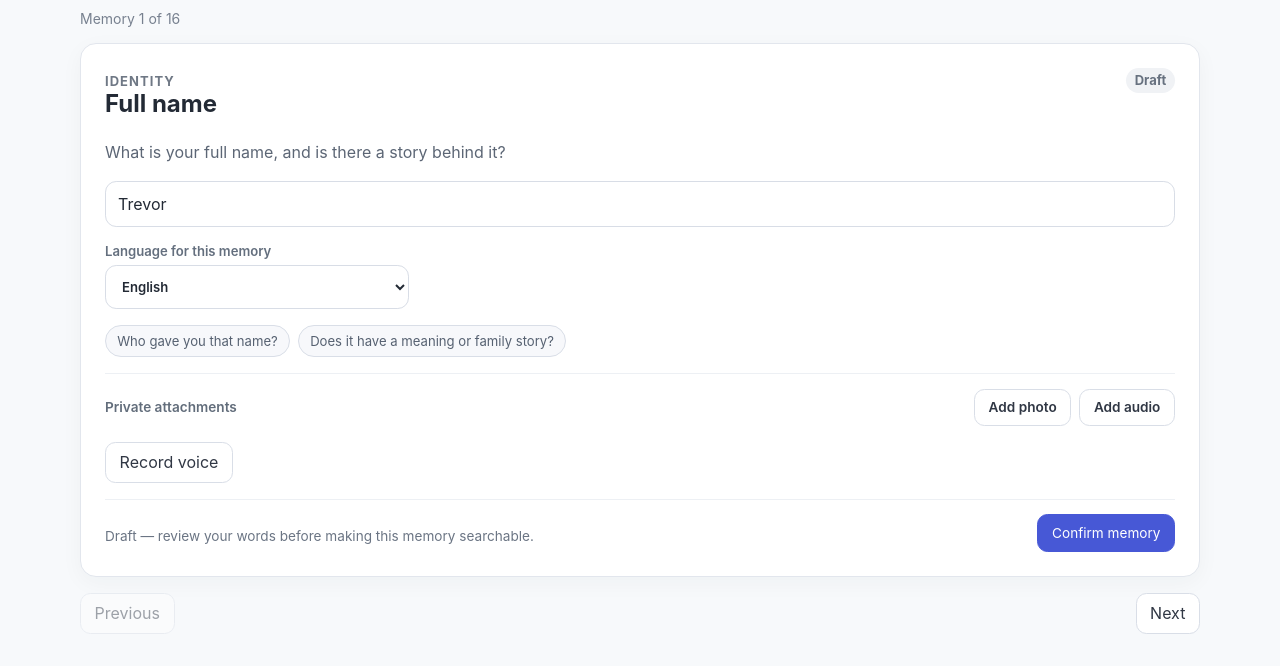
Test case: MyStory › confirms memories explicitly and offers retry when local indexing fails
The width and height of the screenshot is (1280, 666).
(page scrolled)
Expected: the field named "Full name" is shown, 105,180 -> 1175,226
Step 1. Click the button "Confirm memory" → (1106,533), box 1038,514 -> 1175,552
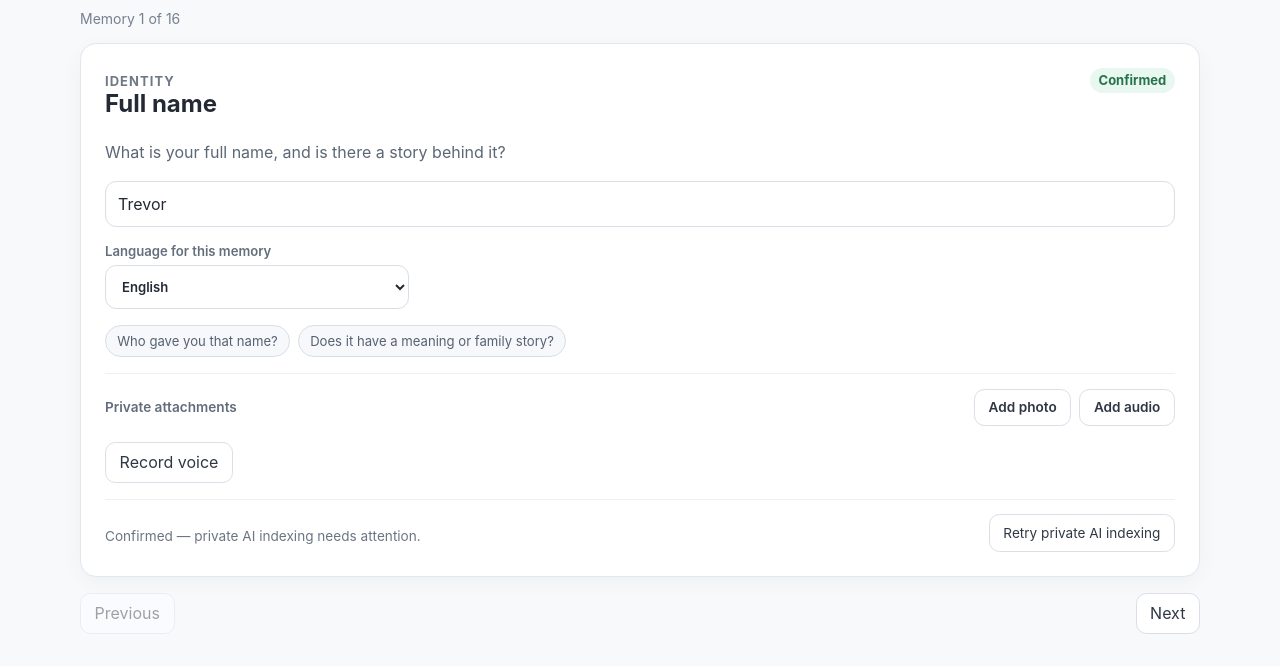
Expected: the button "Retry private AI indexing" is shown
Step 2. Click the button "Retry private AI indexing" → (1082,533), box 989,514 -> 1175,552
(page scrolled)
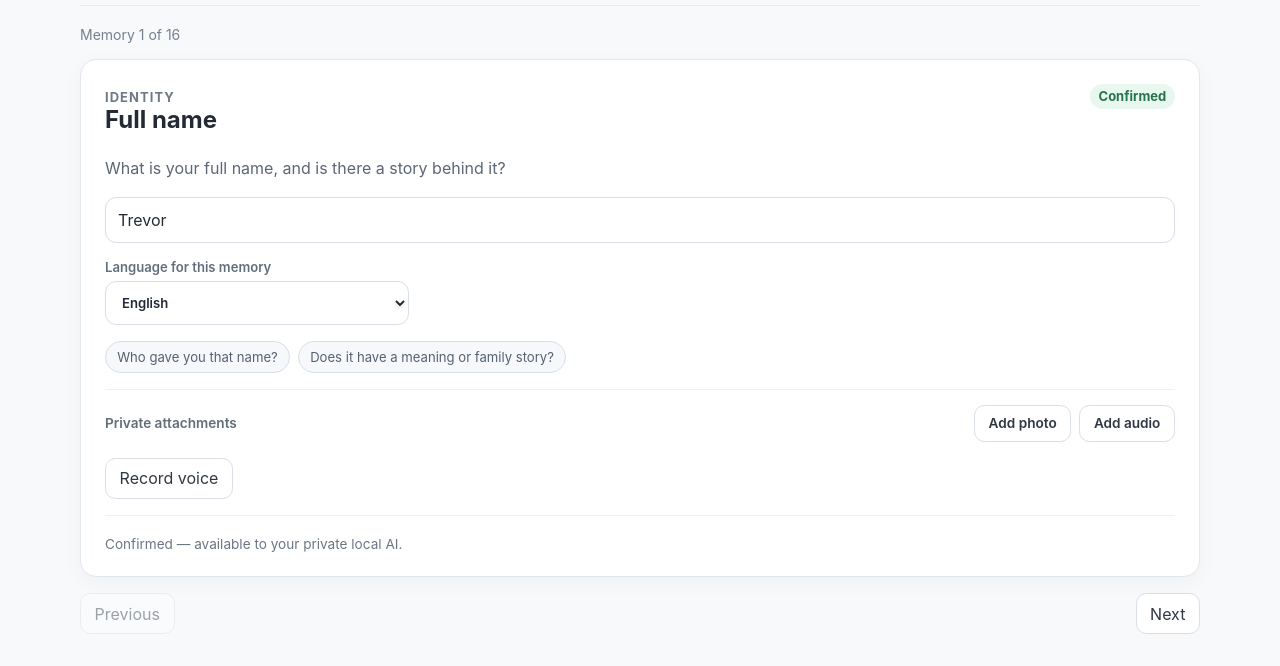
Expected: the text "Confirmed — available to your private local AI." is shown, 105,536 -> 402,552
